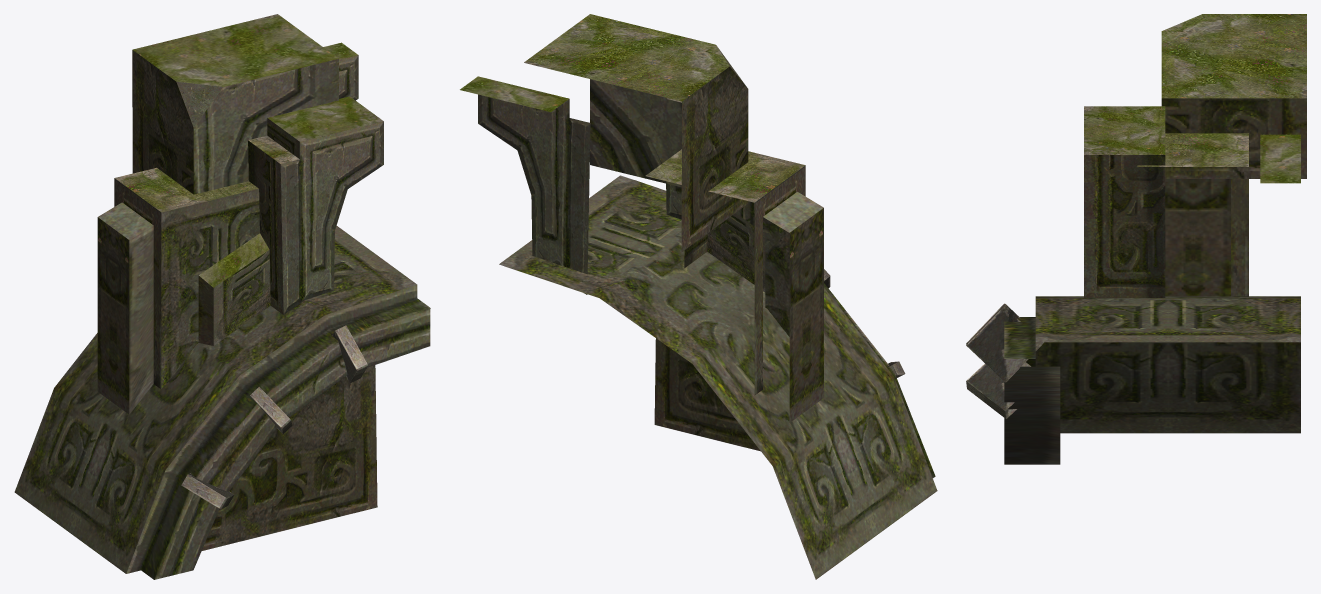
The model's file is yw_huanghunyaosai_jushi02.FBX.
The picture shows the model from 3 angles, left to right: view 1: azimuth 30°, elevation 25°; view 2: azimuth 150°, elevation 25°; view 3: azimuth 270°, elevation 25°; orthographic projection. The views are drawn at different scales.
Visible parts, largest first — view 1: yw_huanghunyaosai_jushi02; view 2: yw_huanghunyaosai_jushi02; view 3: yw_huanghunyaosai_jushi02.
Part boxes in pixels (left/top/right/bottom): yw_huanghunyaosai_jushi02: left=14, top=14, right=430, bottom=579; yw_huanghunyaosai_jushi02: left=460, top=14, right=937, bottom=579; yw_huanghunyaosai_jushi02: left=966, top=14, right=1306, bottom=464.
Bounding box in the file's own units: 649 × 780 × 493.
